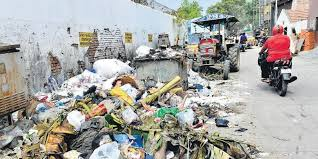garbage: (19, 89, 227, 159), (90, 63, 135, 159)
